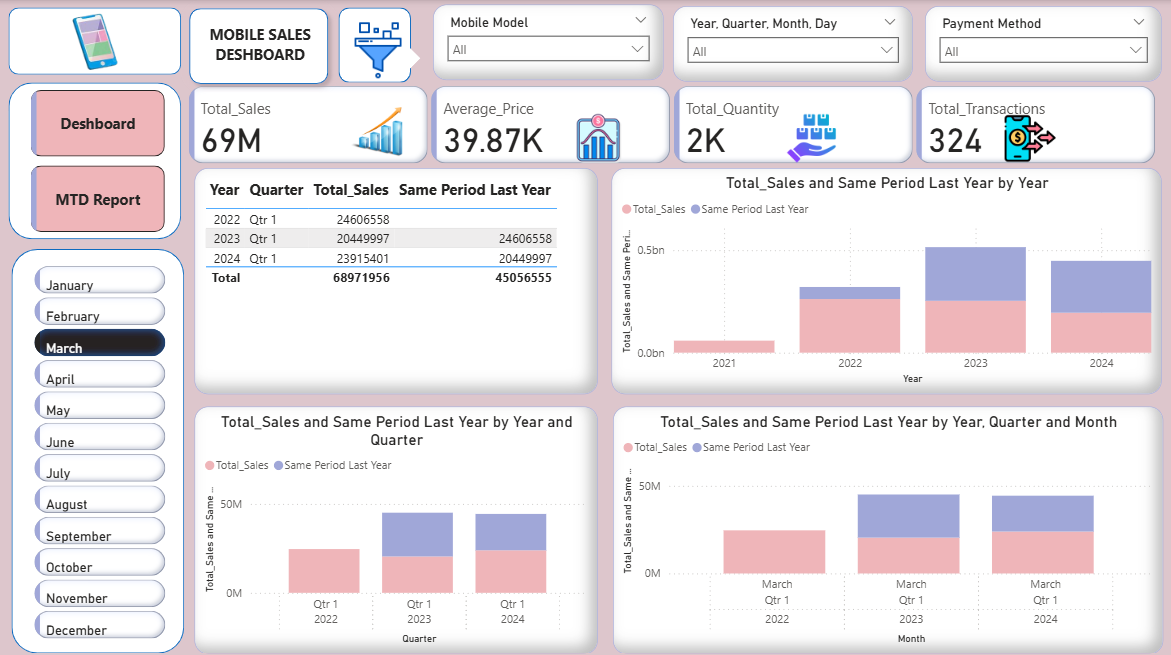

What the dashboard file says about the page in this screenshot:
{"tool":"powerbi","page":{"name":"Same Period Last Year","canvas":[1280,720],"ordinal":2},"visuals":[{"type":"shape","box":[11.4,8.6,187.1,72.9],"z":0},{"type":"image","box":[61.8,0,89.5,89.5],"z":1000},{"type":"shape","box":[11.4,90,187.1,170],"z":2000},{"type":"cardVisual","fields":{"Data":["Moblie_Sales_data.Total_Sales","Moblie_Sales_data.Average_Price","Moblie_Sales_data.Total_Quantity","Moblie_Sales_data.Total_Transactions"]},"box":[201.7,87.8,1060.5,94.3],"z":3000},{"type":"image","box":[340,108.6,142.9,65.7],"z":4000},{"type":"image","box":[580,117.1,141.4,65.7],"z":5000},{"type":"image","box":[848.6,117.1,65.7,65.7],"z":6000},{"type":"image","box":[1074.3,117.1,91.4,65.7],"z":7000},{"type":"slicer","fields":{"Values":["Moblie_Sales_data.Mobile Model"]},"box":[471.7,5,250,81.7],"z":8000},{"type":"slicer","fields":{"Values":["Custom_Calender.Date.Variation.Date Hierarchy.Year","Custom_Calender.Date.Variation.Date Hierarchy.Quarter","Custom_Calender.Date.Variation.Date Hierarchy.Month","Custom_Calender.Date.Variation.Date Hierarchy.Day"]},"box":[731.7,6.7,260,81.7],"z":9000},{"type":"slicer","fields":{"Values":["Moblie_Sales_data.Payment Method"]},"box":[1005,6.7,256.7,81.7],"z":10000},{"type":"shape","box":[370,8.6,78.6,81.4],"z":11000},{"type":"image","box":[332.9,17.1,157.1,72.9],"z":12000},{"type":"shape","box":[431.4,50,27.1,25.7],"z":13000},{"type":"shape","box":[198.6,0,168.6,100],"z":14000},{"type":"textbox","box":[215.7,21.4,135.7,64.3],"z":15000},{"type":"shape","box":[14.3,270,187.1,438.6],"z":16000},{"type":"advancedSlicerVisual","fields":{"Values":["Custom_Calender.Date.Variation.Date Hierarchy.Month"]},"box":[34.3,282.9,152.9,425.7],"z":17000},{"type":"tableEx","fields":{"Values":["Custom_Calender.Date.Variation.Date Hierarchy.Year","Custom_Calender.Date.Variation.Date Hierarchy.Quarter","Moblie_Sales_data.Total_Sales","Moblie_Sales_data.Same Period Last Year"]},"box":[213.1,182.2,437.5,245.6],"z":18000},{"type":"columnChart","fields":{"Category":["Custom_Calender.Date.Variation.Date Hierarchy.Year","Custom_Calender.Date.Variation.Date Hierarchy.Quarter"],"Y":["Moblie_Sales_data.Total_Sales","Moblie_Sales_data.Same Period Last Year"]},"box":[665.3,182.2,596.9,245.6],"z":19000},{"type":"columnChart","fields":{"Category":["Custom_Calender.Date.Variation.Date Hierarchy.Year","Custom_Calender.Date.Variation.Date Hierarchy.Quarter"],"Y":["Moblie_Sales_data.Total_Sales","Moblie_Sales_data.Same Period Last Year"]},"box":[213.1,440.8,437.5,268.4],"z":20000},{"type":"columnChart","fields":{"Y":["Moblie_Sales_data.Total_Sales","Moblie_Sales_data.Same Period Last Year"],"Category":["Custom_Calender.Date.Variation.Date Hierarchy.Year","Custom_Calender.Date.Variation.Date Hierarchy.Quarter","Custom_Calender.Date.Variation.Date Hierarchy.Month"]},"box":[666.9,440.8,596.9,268.4],"z":21000},{"type":"pageNavigator","box":[35.7,97.1,145.7,154.3],"z":22000}]}

Visuals, with their boxes in screenshot pixels (x1, y1, x2, y2), scaled from the page's 1280x720 canvas onto the 1171x655 screenshot:
shape: bbox=[10, 8, 182, 74]
image: bbox=[57, 0, 138, 81]
shape: bbox=[10, 82, 182, 237]
cardVisual - Moblie_Sales_data.Total_Sales x Moblie_Sales_data.Average_Price: bbox=[185, 80, 1155, 166]
image: bbox=[311, 99, 442, 159]
image: bbox=[531, 107, 660, 166]
image: bbox=[776, 107, 836, 166]
image: bbox=[983, 107, 1066, 166]
slicer - Moblie_Sales_data.Mobile Model: bbox=[432, 5, 660, 79]
slicer - Custom_Calender.Date.Variation.Date Hierarchy.Year x Custom_Calender.Date.Variation.Date Hierarchy.Quarter: bbox=[669, 6, 907, 80]
slicer - Moblie_Sales_data.Payment Method: bbox=[919, 6, 1154, 80]
shape: bbox=[338, 8, 410, 82]
image: bbox=[305, 16, 448, 82]
shape: bbox=[395, 45, 419, 69]
shape: bbox=[182, 0, 336, 91]
textbox: bbox=[197, 19, 321, 78]
shape: bbox=[13, 246, 184, 645]
advancedSlicerVisual - Custom_Calender.Date.Variation.Date Hierarchy.Month: bbox=[31, 257, 171, 645]
tableEx - Custom_Calender.Date.Variation.Date Hierarchy.Year x Custom_Calender.Date.Variation.Date Hierarchy.Quarter: bbox=[195, 166, 595, 389]
columnChart - Custom_Calender.Date.Variation.Date Hierarchy.Year x Custom_Calender.Date.Variation.Date Hierarchy.Quarter: bbox=[609, 166, 1155, 389]
columnChart - Custom_Calender.Date.Variation.Date Hierarchy.Year x Custom_Calender.Date.Variation.Date Hierarchy.Quarter: bbox=[195, 401, 595, 645]
columnChart - Moblie_Sales_data.Total_Sales x Moblie_Sales_data.Same Period Last Year: bbox=[610, 401, 1156, 645]
pageNavigator: bbox=[33, 88, 166, 229]
